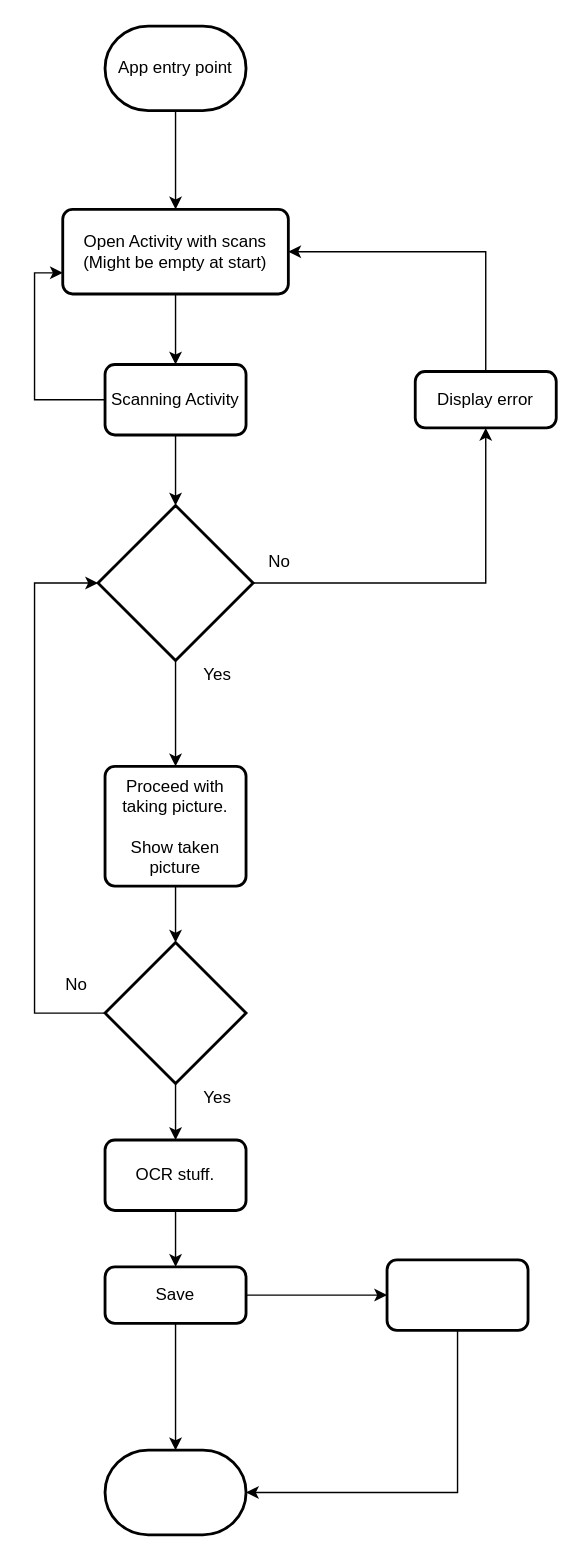
The diagram is 582 pixels wide and 1559 high, and some of its shapes have lost their labels. The centre of each missing label's shape, as x and y in pixels:
Check for camera: (175,582)
End app: (175,1491)
Go back to Scans Activity: (457,1294)
Keep it?: (175,1012)
